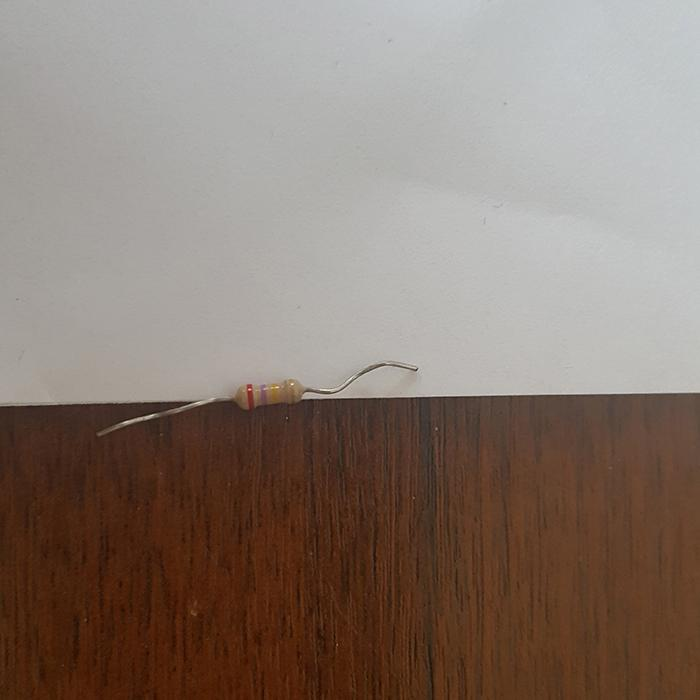resistor: (233, 378, 302, 409)
